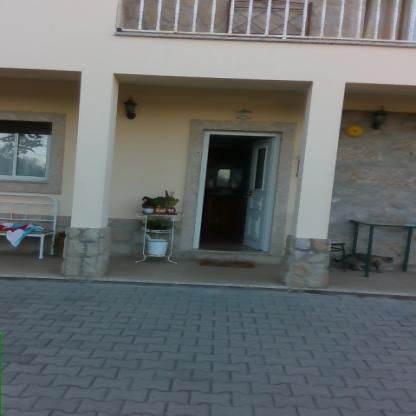open: (191, 124, 287, 265)
